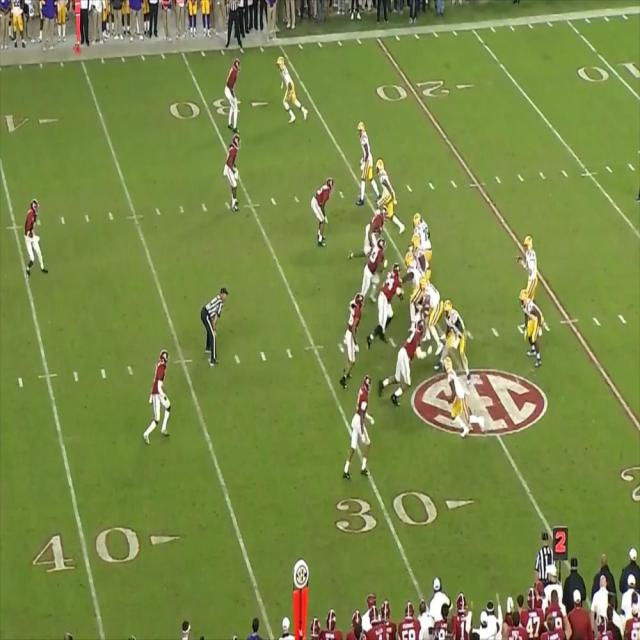center: (408, 255, 417, 322)
db: (348, 381, 370, 475), (149, 348, 170, 444), (226, 135, 242, 212), (27, 200, 43, 277), (226, 55, 242, 123)
lb: (344, 294, 362, 383), (313, 176, 335, 244), (363, 245, 384, 302)
qb: (522, 234, 538, 288)
skill: (521, 289, 544, 360), (278, 56, 301, 118), (376, 157, 396, 228), (357, 121, 375, 199)
